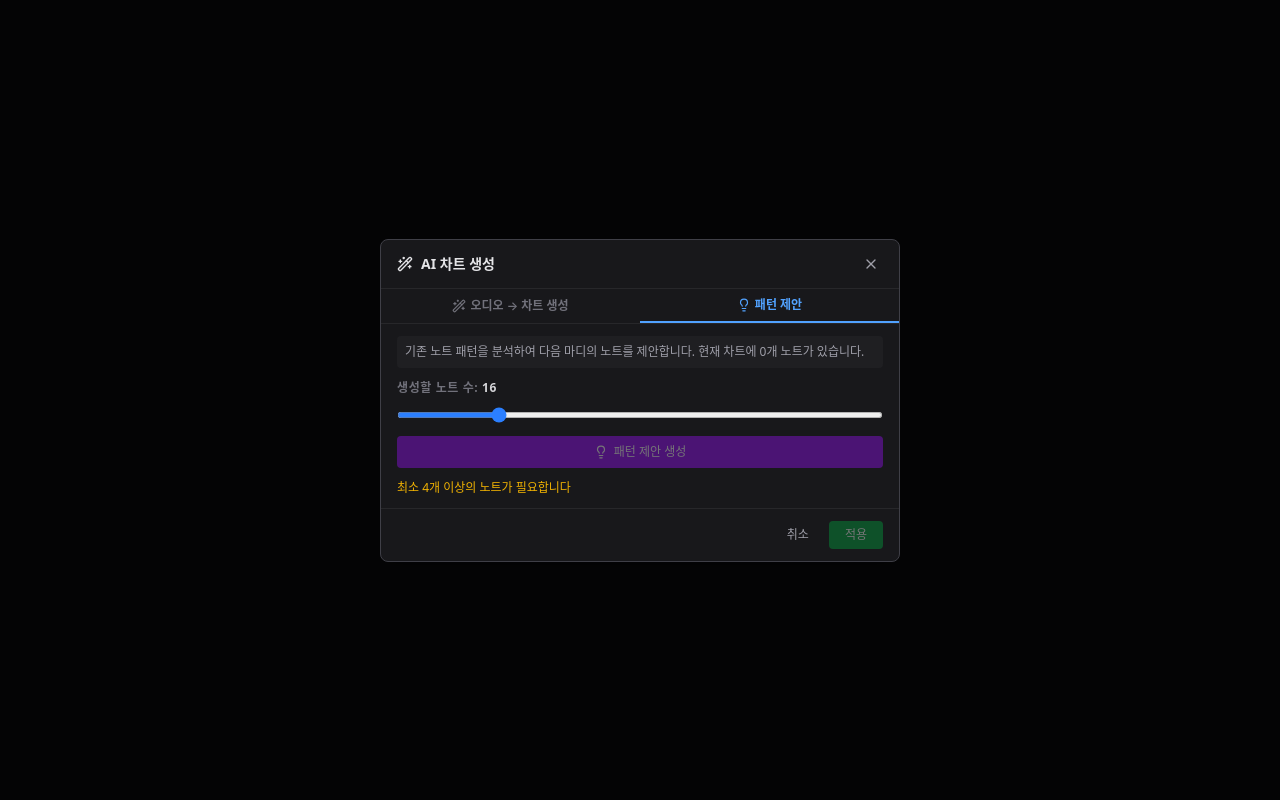
Scenario: AutoChartDialog › shows "오디오 파일 열기" button in generate mode
# Switch to generate mode
Click the button "오디오 → 차트 생성" at (510, 306), box x1=381 y1=288 x2=640 y2=322
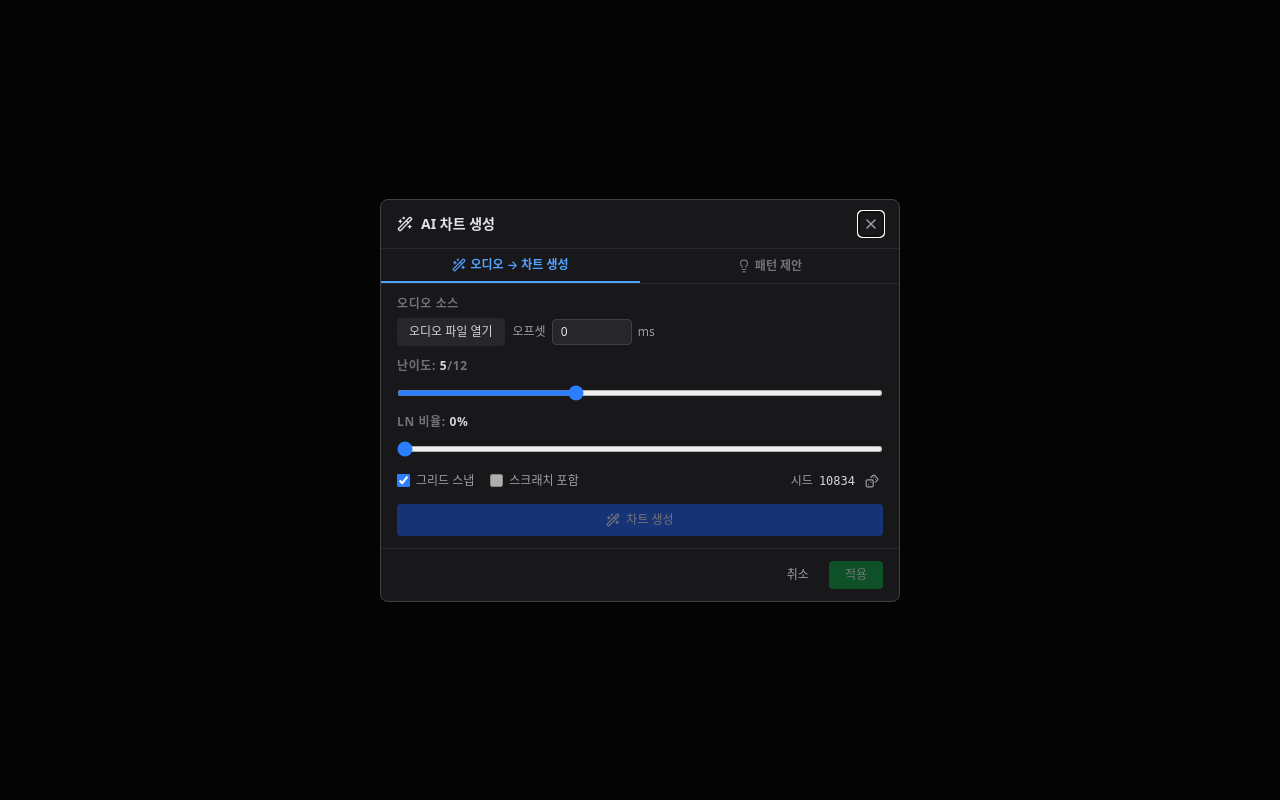
Expected: the button "오디오 파일 열기" is shown, x1=397 y1=318 x2=504 y2=346
